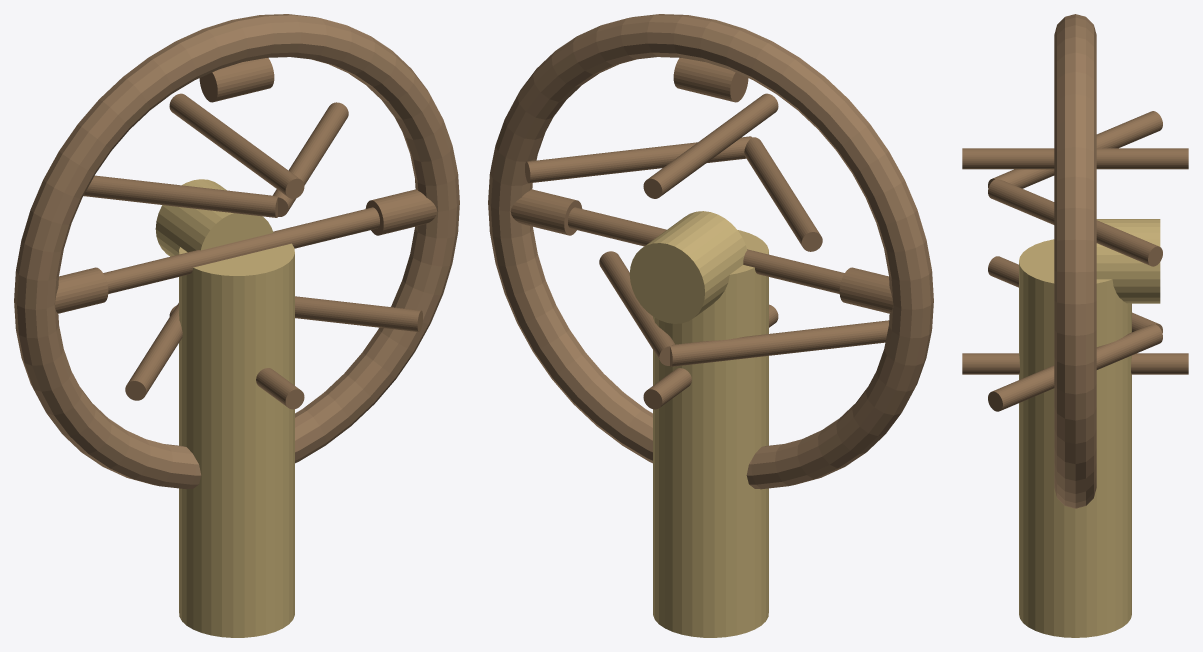
The model's file is wheel.glb.
The picture shows the model from 3 angles, left to right: view 1: azimuth 30°, elevation 25°; view 2: azimuth 150°, elevation 25°; view 3: azimuth 270°, elevation 25°; orthographic projection. The views are drawn at different scales.
Parts seen in each view (by area): view 1: WheelRim, WheelPedestal, WheelHub, Spoke3, Spoke2, Spoke7, Spoke0, Spoke4, Handle2, Spoke1, Handle0, Spoke5 (+2 smaller); view 2: WheelRim, WheelPedestal, WheelHub, Spoke5, Spoke1, Spoke2, Spoke3, Spoke7, Handle2, Spoke4, Handle0, Spoke0 (+2 smaller); view 3: WheelPedestal, WheelRim, Spoke2, WheelHub, Spoke1, Spoke7, Spoke6, Spoke3, Spoke5.
Boxes of the visible parts, x1=… form: WheelRim: x1=14, y1=14, x2=459, y2=489; WheelPedestal: x1=179, y1=243, x2=294, y2=637; WheelHub: x1=155, y1=179, x2=273, y2=256; Spoke3: x1=83, y1=175, x2=277, y2=217; Spoke2: x1=169, y1=93, x2=304, y2=198; Spoke7: x1=295, y1=296, x2=422, y2=331; Spoke0: x1=237, y1=207, x2=379, y2=255; Spoke4: x1=103, y1=242, x2=242, y2=293; Handle2: x1=199, y1=58, x2=274, y2=102; Spoke1: x1=273, y1=102, x2=348, y2=216; Handle0: x1=365, y1=189, x2=437, y2=235; Spoke5: x1=125, y1=303, x2=182, y2=400; WheelRim: x1=488, y1=14, x2=933, y2=489; WheelPedestal: x1=653, y1=230, x2=768, y2=637; WheelHub: x1=629, y1=211, x2=747, y2=323; Spoke5: x1=670, y1=320, x2=888, y2=366; Spoke1: x1=525, y1=136, x2=751, y2=183; Spoke2: x1=643, y1=93, x2=778, y2=198; Spoke3: x1=744, y1=137, x2=822, y2=251; Spoke7: x1=599, y1=251, x2=675, y2=365; Handle2: x1=673, y1=58, x2=748, y2=102; Spoke4: x1=743, y1=249, x2=844, y2=293; Handle0: x1=510, y1=189, x2=582, y2=235; Spoke0: x1=568, y1=207, x2=666, y2=246; WheelPedestal: x1=1019, y1=239, x2=1131, y2=637; WheelRim: x1=1054, y1=14, x2=1096, y2=508; Spoke2: x1=962, y1=148, x2=1188, y2=169; WheelHub: x1=1096, y1=219, x2=1160, y2=303; Spoke1: x1=988, y1=179, x2=1162, y2=266; Spoke7: x1=988, y1=324, x2=1162, y2=411; Spoke6: x1=962, y1=353, x2=1188, y2=374; Spoke3: x1=988, y1=111, x2=1162, y2=188; Spoke5: x1=988, y1=256, x2=1162, y2=332.
Size of the model in its own units: 0.7 by 0.9 by 0.32.
